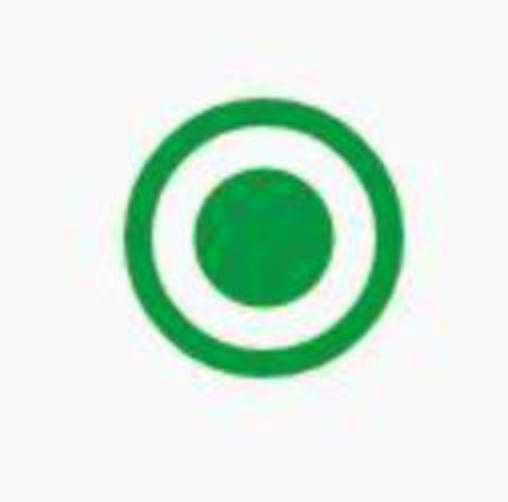RadioButton: (1, 1, 507, 501)
